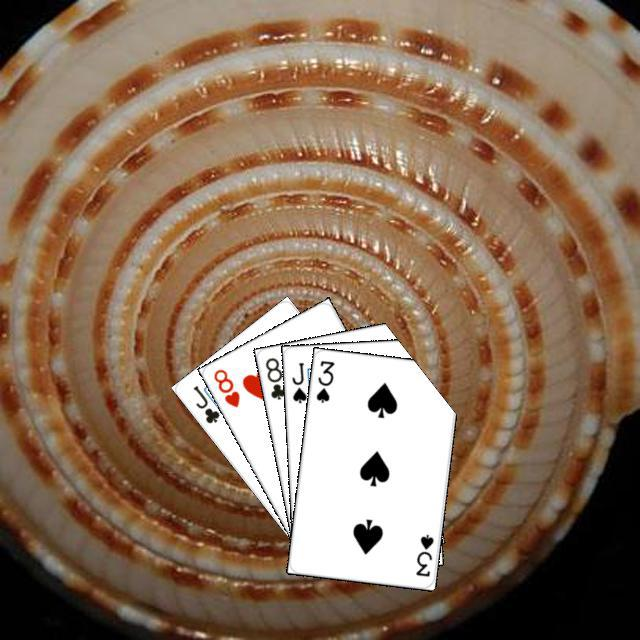3s: (311, 356, 336, 404), (411, 529, 435, 578)
8c: (260, 353, 287, 401)
8h: (208, 364, 242, 409)
Jc: (188, 380, 221, 425)
Js: (287, 357, 308, 405)
